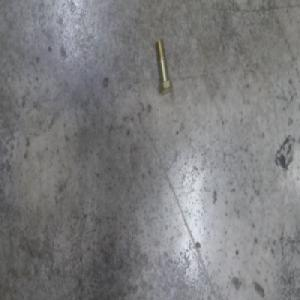Bolt: (155, 38, 173, 95)
